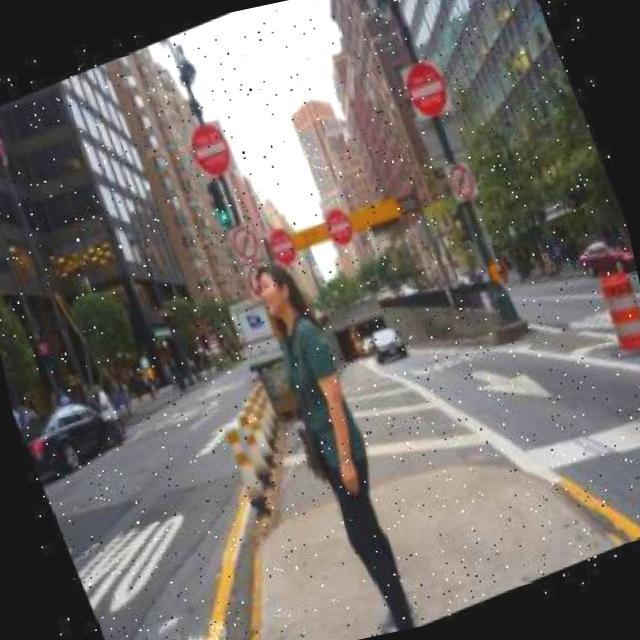Person: (222, 238, 439, 640)
